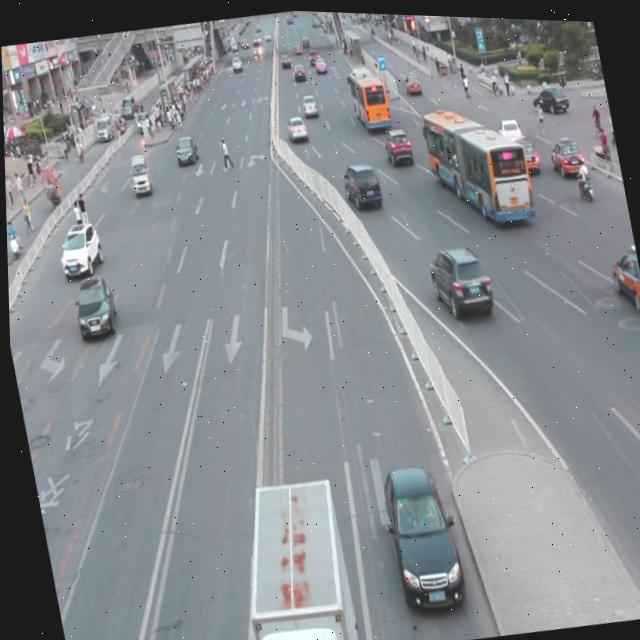bus: (223, 468, 358, 640)
car: (374, 455, 464, 610), (424, 237, 493, 318), (69, 272, 119, 343), (54, 219, 104, 276), (605, 240, 640, 307), (339, 157, 383, 210), (547, 130, 584, 173)
van: (418, 96, 533, 229)
